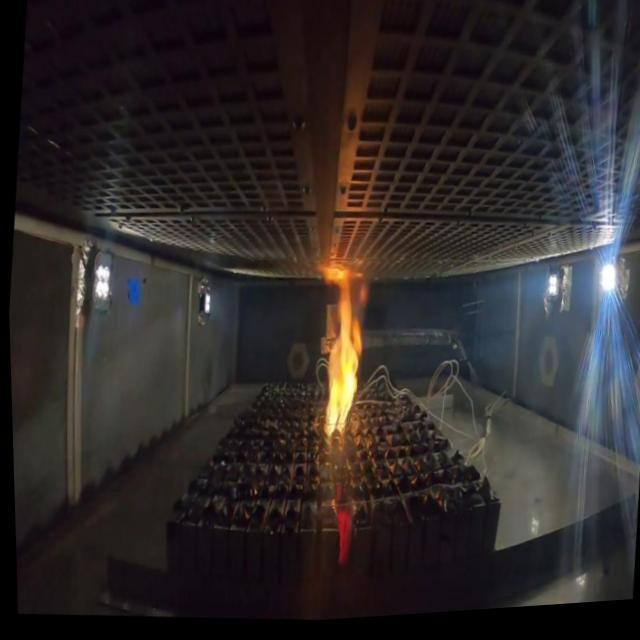fire: (299, 259, 375, 449)
